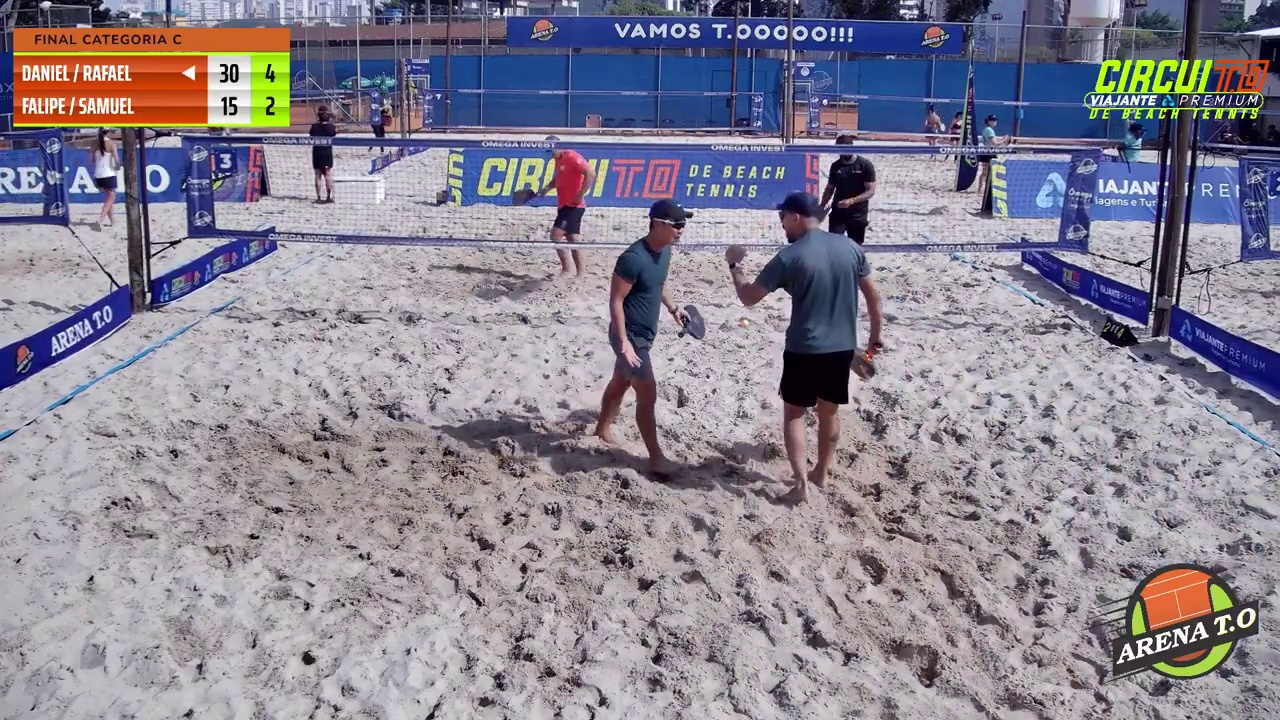court_line: (640, 0, 805, 458), (549, 0, 669, 527)
